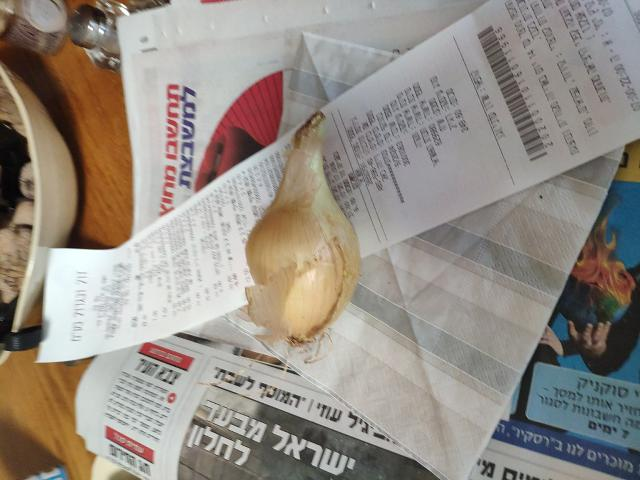onion: (252, 179, 359, 343)
